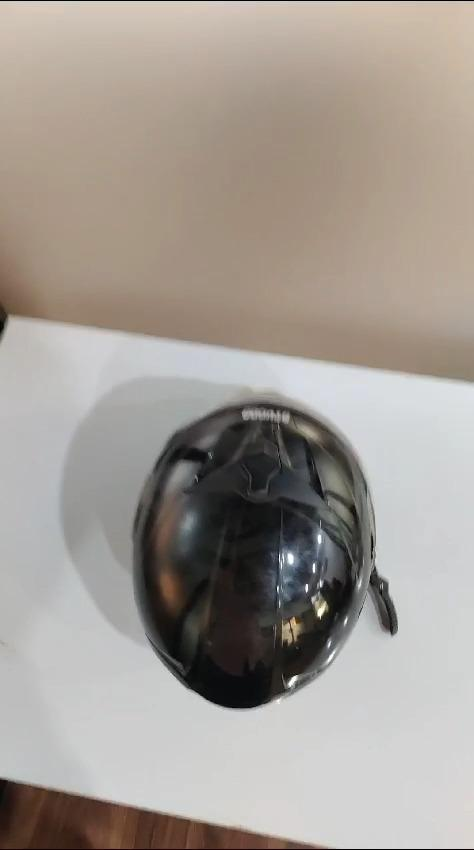Helmet: (130, 382, 377, 707)
